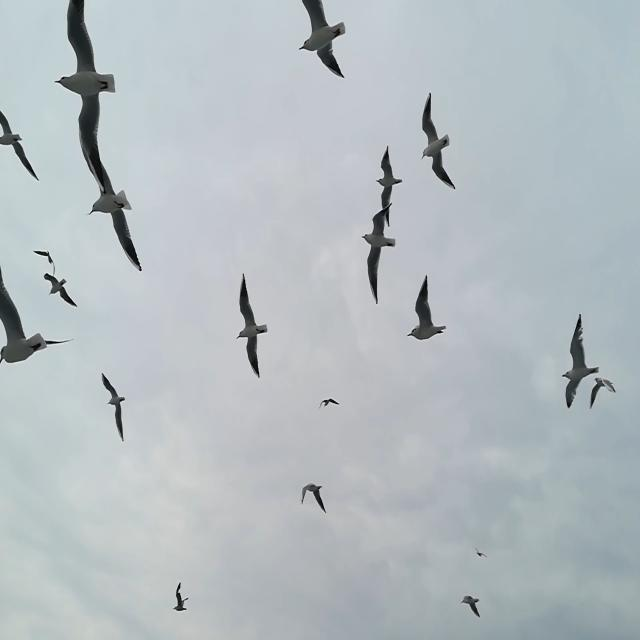bird: (53, 0, 116, 194), (78, 118, 143, 272), (0, 263, 74, 370), (361, 201, 397, 306), (419, 91, 456, 192), (561, 313, 599, 411), (298, 0, 345, 79), (236, 272, 270, 380), (0, 100, 40, 181), (407, 275, 448, 342), (375, 144, 403, 228), (101, 372, 129, 441), (42, 273, 78, 309), (590, 375, 618, 411), (301, 482, 328, 514), (33, 249, 56, 277), (172, 581, 190, 613), (460, 595, 480, 619), (318, 398, 340, 409), (474, 546, 488, 559)
